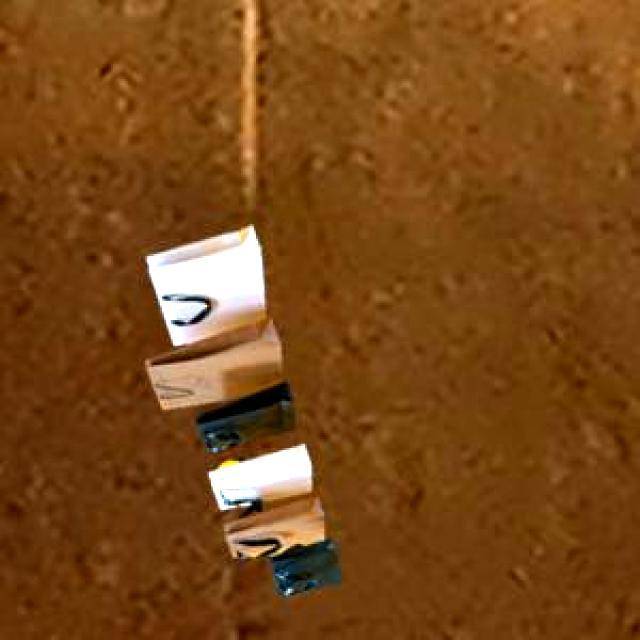Paper_Bag: (142, 223, 338, 592)
